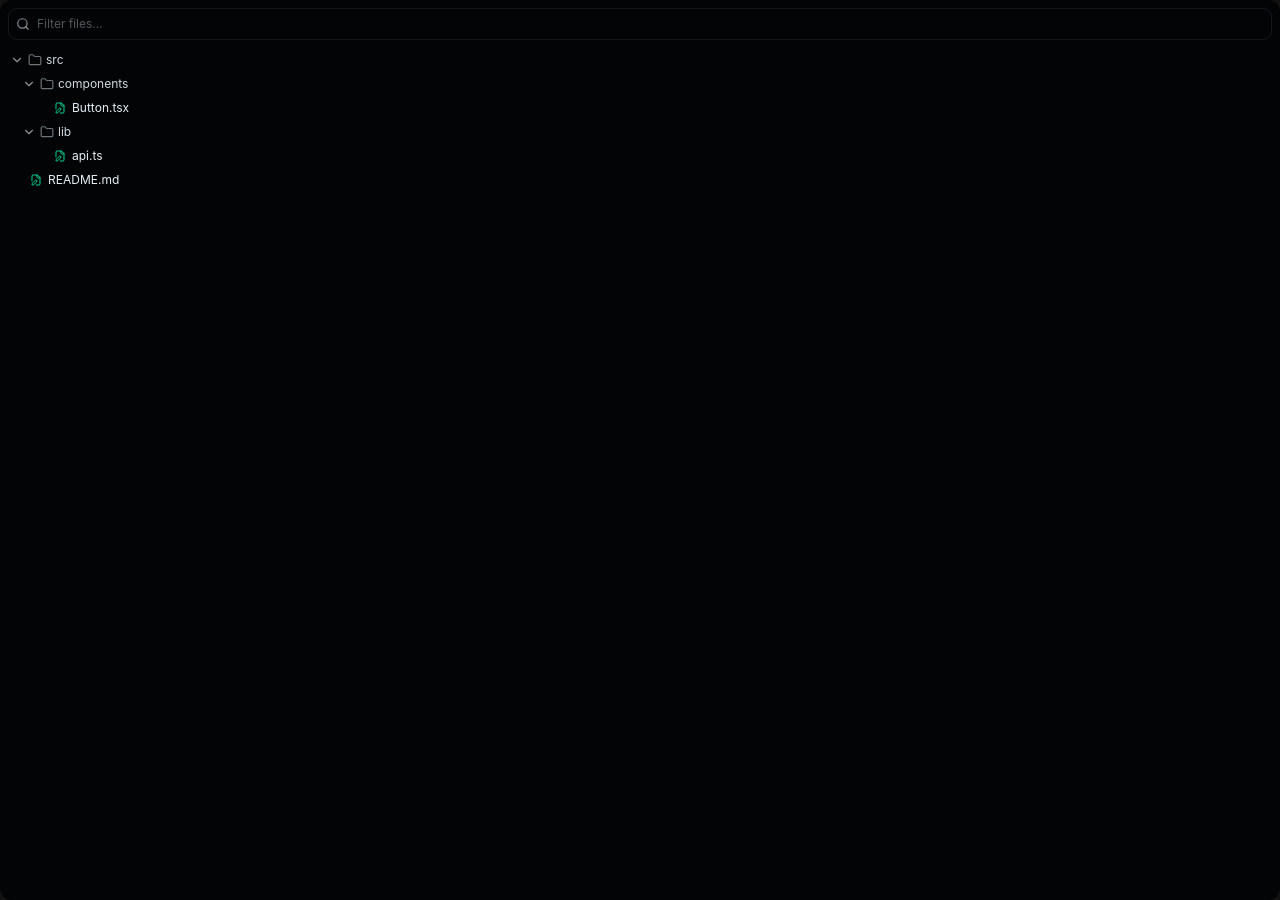
Scenario: DiffFileTree › filtering › narrows the tree to matching paths
Step 1. Type "Button" into the field with placeholder "Filter files…" → x=640, y=24, box [8,8,1272,40]
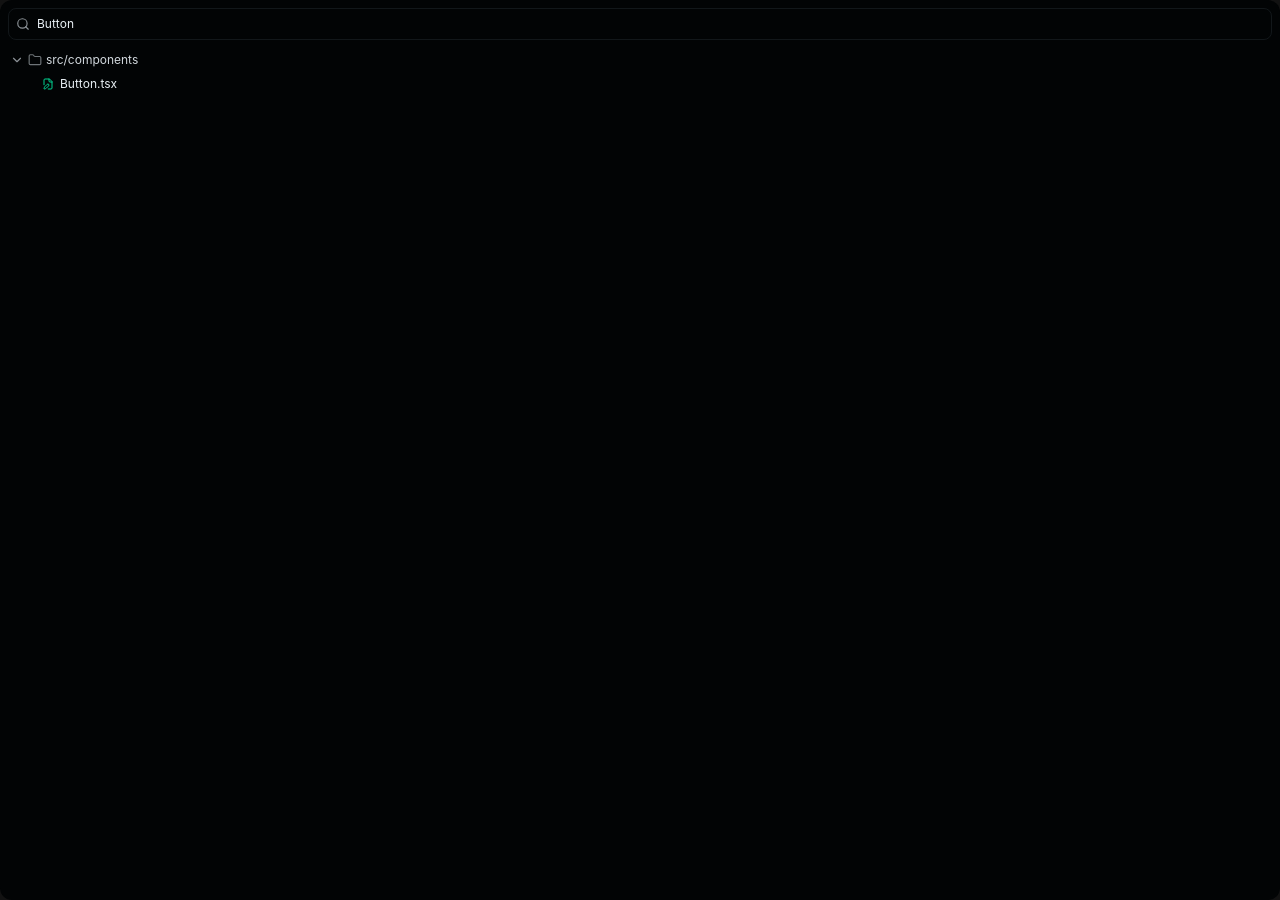
expect the text "Button.tsx" is shown: met, box [60,75,117,93]
expect the text "README.md" is gone: met
